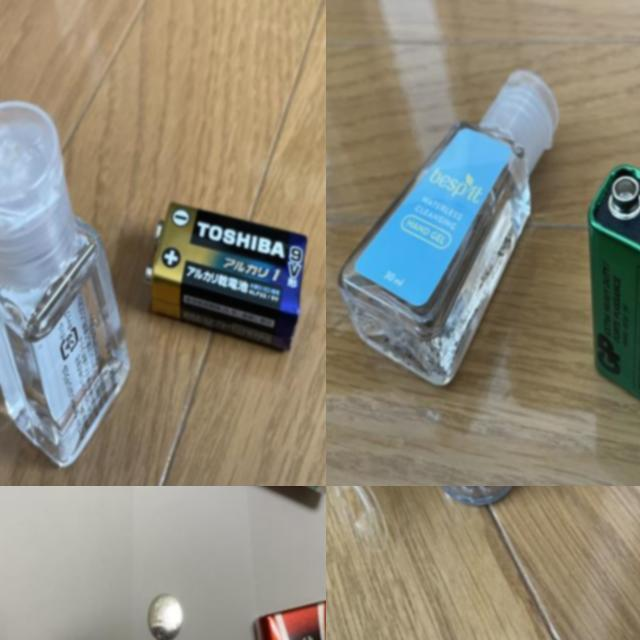9V: (145, 202, 308, 352), (586, 166, 640, 420)
